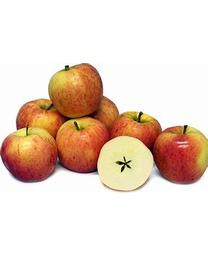apple: (153, 125, 207, 185), (1, 127, 58, 183), (97, 135, 153, 190), (57, 117, 109, 174), (50, 63, 103, 118), (108, 111, 161, 151), (16, 99, 65, 136), (92, 97, 119, 131)
